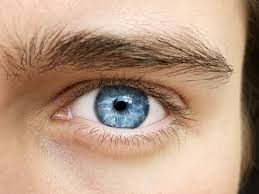pupil: (95, 86, 149, 129)
